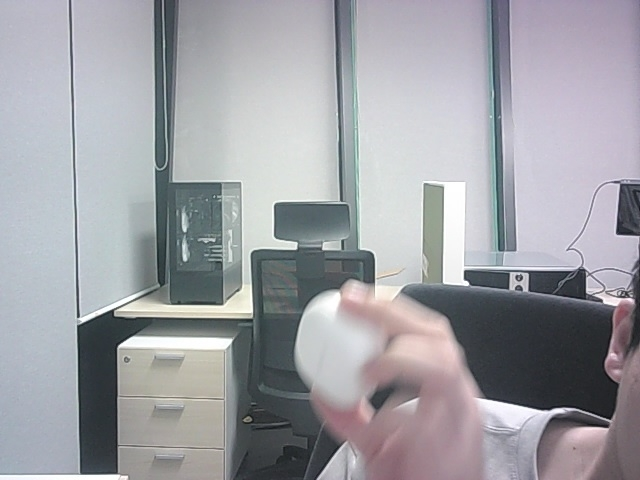case: (294, 290, 386, 410), (294, 290, 385, 411), (294, 290, 385, 409)
test1: (294, 290, 386, 411)
